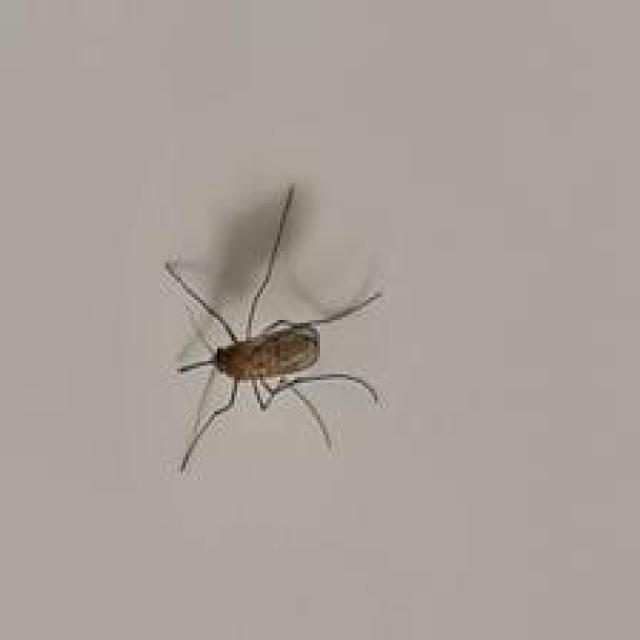Culex: (162, 183, 384, 474)
